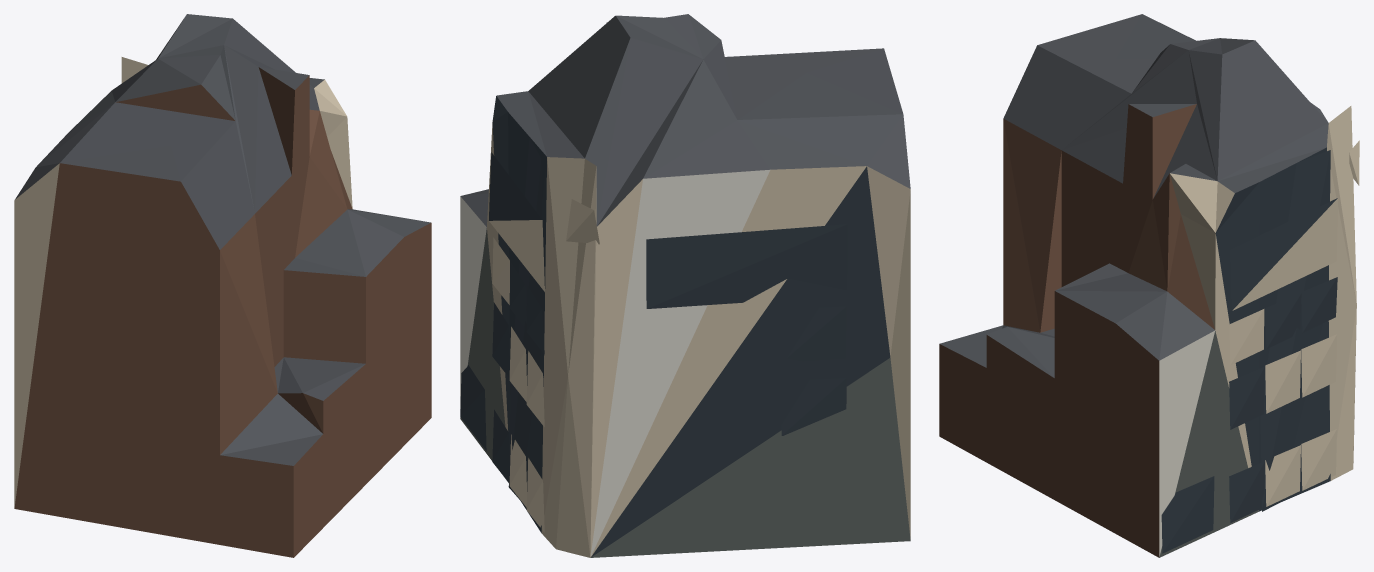
Rendered from leidsestraat-1.lod2.glb.
3 views of the same model, side by side, from view 1: azimuth 30°, elevation 25°; view 2: azimuth 150°, elevation 25°; view 3: azimuth 270°, elevation 25° (orthographic). The views are drawn at different scales.
Parts seen in each view (by area): view 1: lod2; view 2: lod2; view 3: lod2.
Boxes of the visible parts, left/top/right/bottom form: lod2: left=14, top=14, right=431, bottom=557; lod2: left=460, top=14, right=910, bottom=557; lod2: left=939, top=14, right=1359, bottom=557.
Size of the model in its own units: 31.05 by 30.51 by 27.6.
